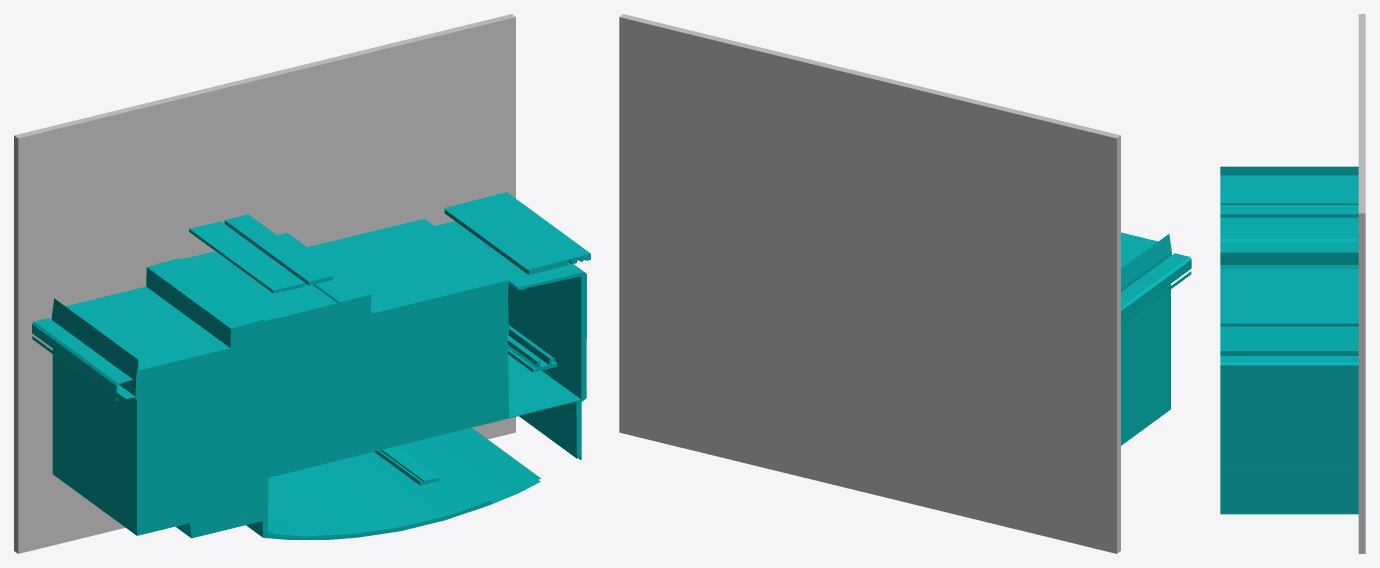
The picture shows the model from 3 angles, left to right: view 1: azimuth 30°, elevation 25°; view 2: azimuth 150°, elevation 25°; view 3: azimuth 270°, elevation 25°; orthographic projection. The views are drawn at different scales.
Visible parts, largest first — view 1: world; view 2: world; view 3: world.
Boxes of the visible parts, x1,y1,x2,y2 form: world: (14, 14, 590, 553); world: (619, 14, 1191, 553); world: (1220, 14, 1365, 553).
Size of the model in its own units: 10.23 by 8.16 by 3.15.
